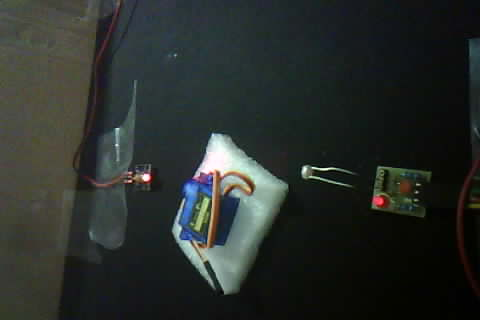motor: (160, 143, 263, 286)
